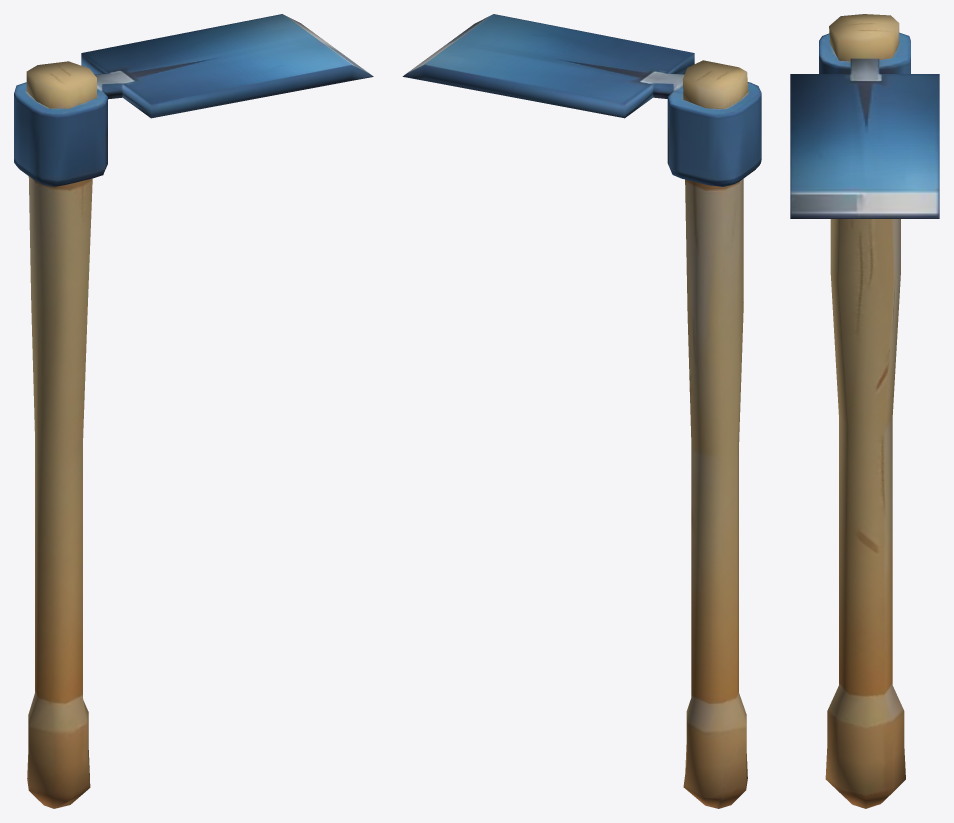
File: skysilver_hoe.glb
3 renders of one model, left to right at view 1: azimuth 30°, elevation 25°; view 2: azimuth 150°, elevation 25°; view 3: azimuth 270°, elevation 25°, orthographic. The views are drawn at different scales.
Visible parts, largest first — view 1: tripo_node_b03d4e30-b6f1-4aa5-9f5c-1ba491a11dad; view 2: tripo_node_b03d4e30-b6f1-4aa5-9f5c-1ba491a11dad; view 3: tripo_node_b03d4e30-b6f1-4aa5-9f5c-1ba491a11dad.
Boxes of the visible parts, left/top/right/bottom form: tripo_node_b03d4e30-b6f1-4aa5-9f5c-1ba491a11dad: left=14, top=14, right=373, bottom=808; tripo_node_b03d4e30-b6f1-4aa5-9f5c-1ba491a11dad: left=402, top=14, right=761, bottom=808; tripo_node_b03d4e30-b6f1-4aa5-9f5c-1ba491a11dad: left=790, top=14, right=939, bottom=808.
Size of the model in its own units: 0.9945 by 2.2 by 0.3832.
Materials: 1 (1 with a texture image).
